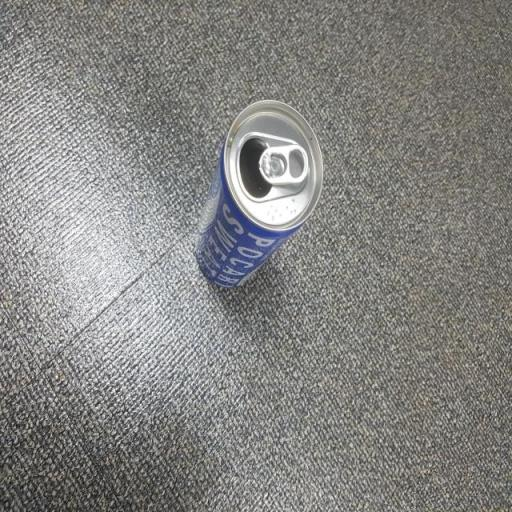metal: (181, 93, 332, 309)
